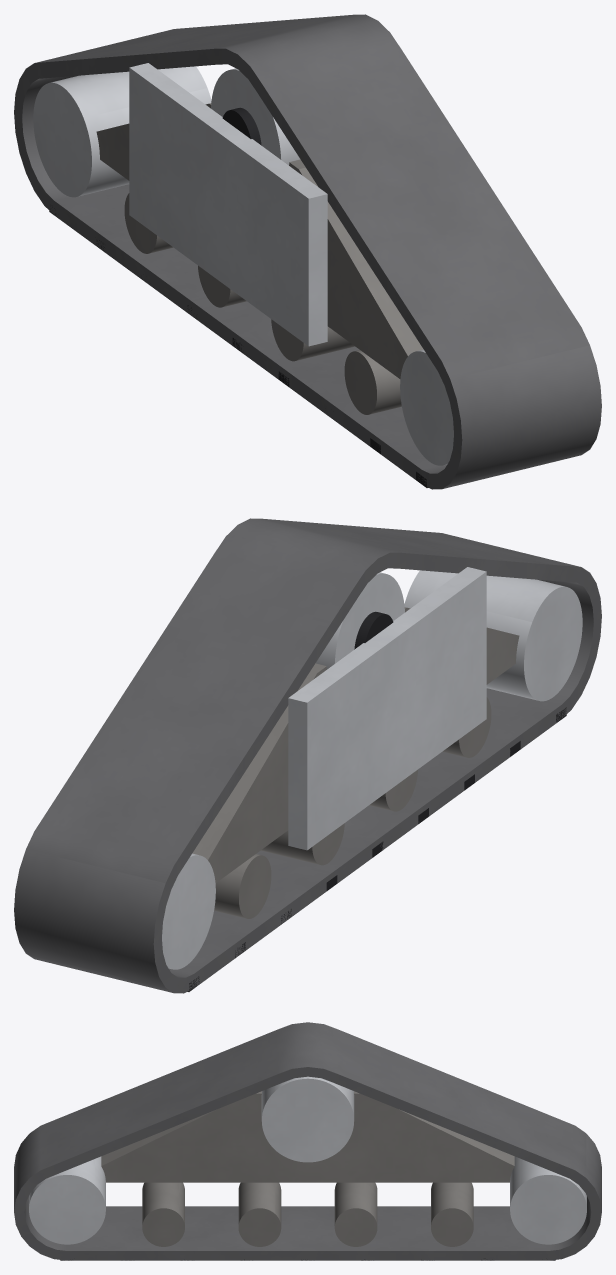
The model's file is rover20_track_unit_m.glb.
3 views of the same model, one above another, from view 1: azimuth 30°, elevation 25°; view 2: azimuth 150°, elevation 25°; view 3: azimuth 270°, elevation 25° (orthographic). The views are drawn at different scales.
Parts seen in each view (by area): view 1: track_belt, mount_plate, wheel_idlers, frame, wheel_rollers, wheel_sprocket, drive_motor; view 2: track_belt, mount_plate, wheel_idlers, frame, wheel_rollers, wheel_sprocket, track_grousers, drive_motor; view 3: track_belt, frame, wheel_rollers, wheel_idlers, wheel_sprocket.
Part boxes in pixels (left/top/right/bottom): track_belt: left=14, top=14, right=601, bottom=489; mount_plate: left=129, top=63, right=327, bottom=346; wheel_idlers: left=33, top=66, right=453, bottom=465; frame: left=96, top=103, right=423, bottom=378; wheel_rollers: left=124, top=193, right=401, bottom=414; wheel_sprocket: left=211, top=68, right=299, bottom=165; drive_motor: left=222, top=107, right=261, bottom=145; track_belt: left=14, top=518, right=601, bottom=993; mount_plate: left=288, top=567, right=486, bottom=850; wheel_idlers: left=162, top=570, right=582, bottom=969; frame: left=192, top=607, right=519, bottom=882; wheel_rollers: left=214, top=697, right=491, bottom=918; wheel_sprocket: left=316, top=572, right=404, bottom=669; track_grousers: left=187, top=707, right=566, bottom=991; drive_motor: left=354, top=611, right=393, bottom=649; track_belt: left=14, top=1022, right=601, bottom=1260; frame: left=101, top=1091, right=514, bottom=1182; wheel_rollers: left=142, top=1182, right=473, bottom=1246; wheel_idlers: left=29, top=1156, right=586, bottom=1244; wheel_sprocket: left=261, top=1076, right=354, bottom=1162.
Size of the model in its own units: 0.45 by 0.8 by 2.2.
Materials: 4 (3 with a texture image).
